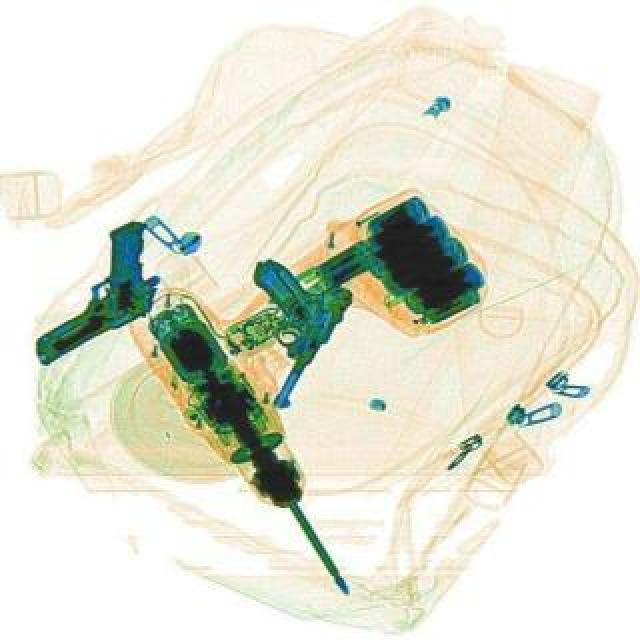gun: (2, 214, 194, 368), (200, 246, 360, 410)
